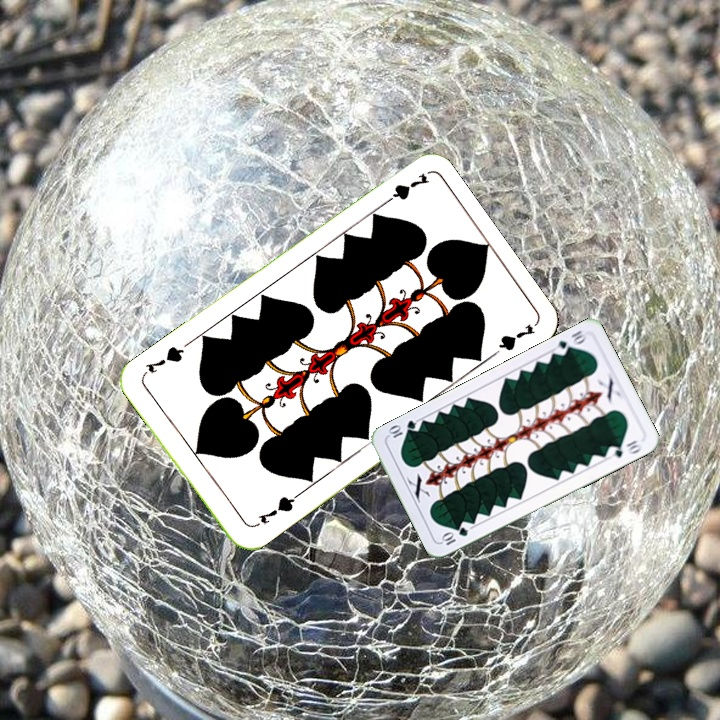G10: (550, 326, 590, 358), (437, 523, 471, 548)
G7: (377, 168, 431, 210), (254, 490, 300, 527)
